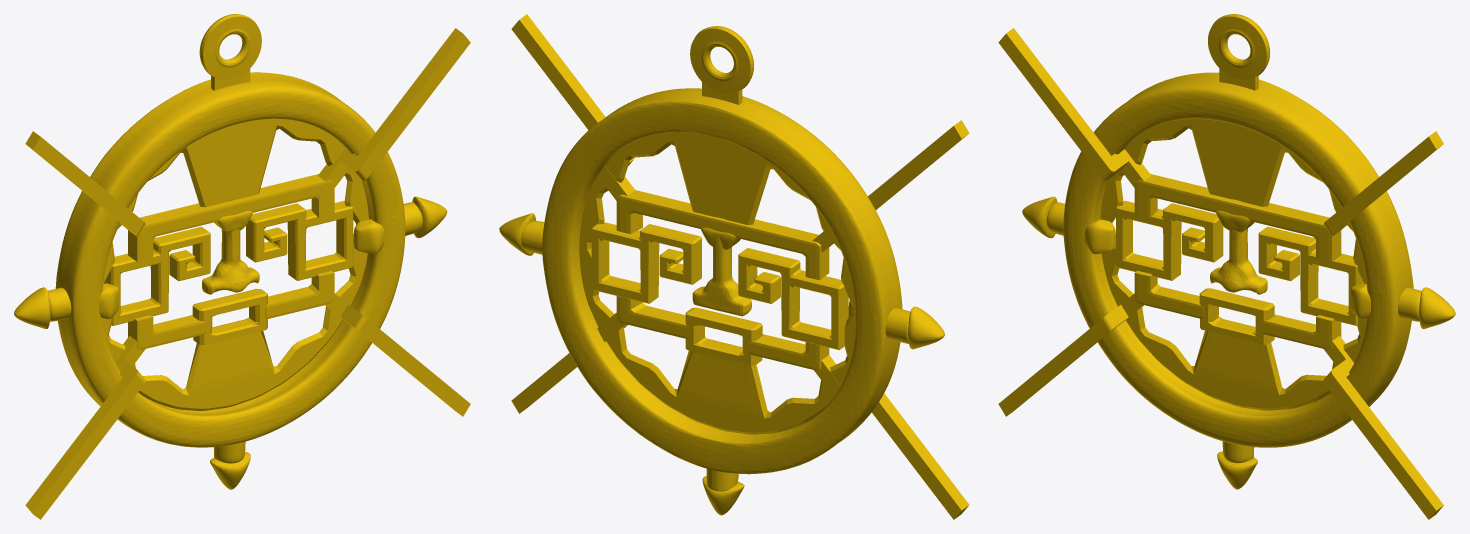
The model's file is MUNAY_ARETE.glb.
The picture shows the model from 3 angles, left to right: view 1: azimuth 30°, elevation 25°; view 2: azimuth 150°, elevation 25°; view 3: azimuth 330°, elevation 25°; orthographic projection. The views are drawn at different scales.
Visible parts, largest first — view 1: Torus.001; view 2: Torus.001; view 3: Torus.001.
Part boxes in pixels (x1=…): Torus.001: x1=14, y1=14, x2=470, y2=519; Torus.001: x1=499, y1=14, x2=969, y2=519; Torus.001: x1=998, y1=14, x2=1455, y2=519.
Size of the model in its own units: 0.0375 by 0.0387 by 0.00482.
